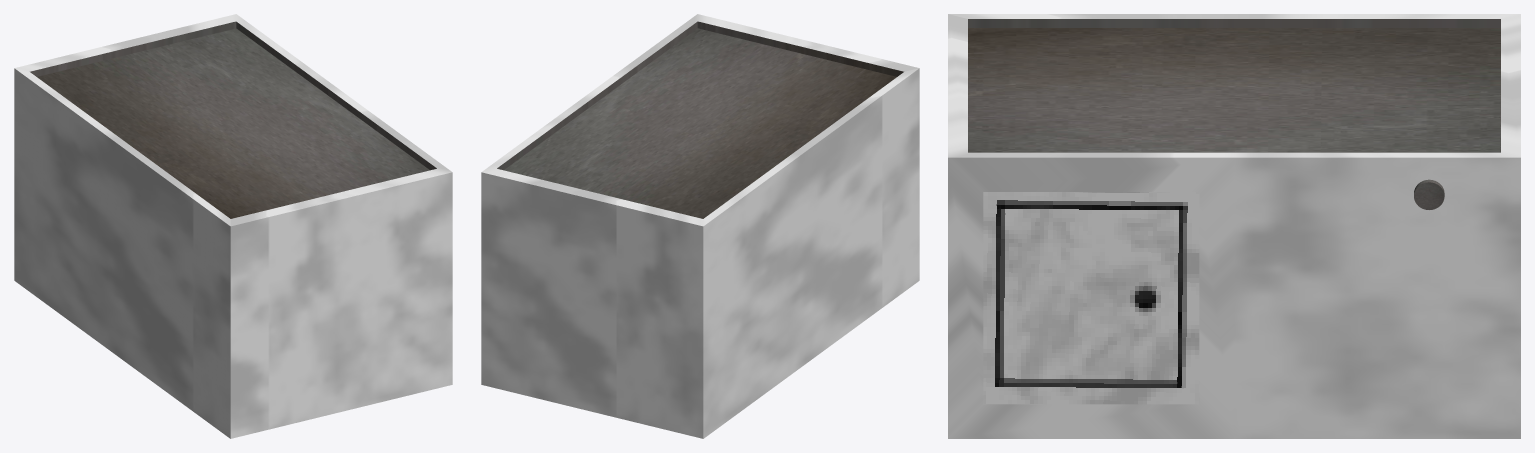
File: Griddle.fbx
3 renders of one model, left to right at view 1: azimuth 30°, elevation 25°; view 2: azimuth 150°, elevation 25°; view 3: azimuth 270°, elevation 25°, orthographic. The views are drawn at different scales.
Parts seen in each view (by area): view 1: Cube; view 2: Cube; view 3: Cube, Cylinder.
Boxes of the visible parts, x1=… form: Cube: x1=14, y1=14, x2=452, y2=438; Cube: x1=481, y1=14, x2=919, y2=438; Cube: x1=948, y1=14, x2=1520, y2=438; Cylinder: x1=1414, y1=179, x2=1444, y2=209.
Size of the model in its own units: 0.8406 by 0.7548 by 1.39.
